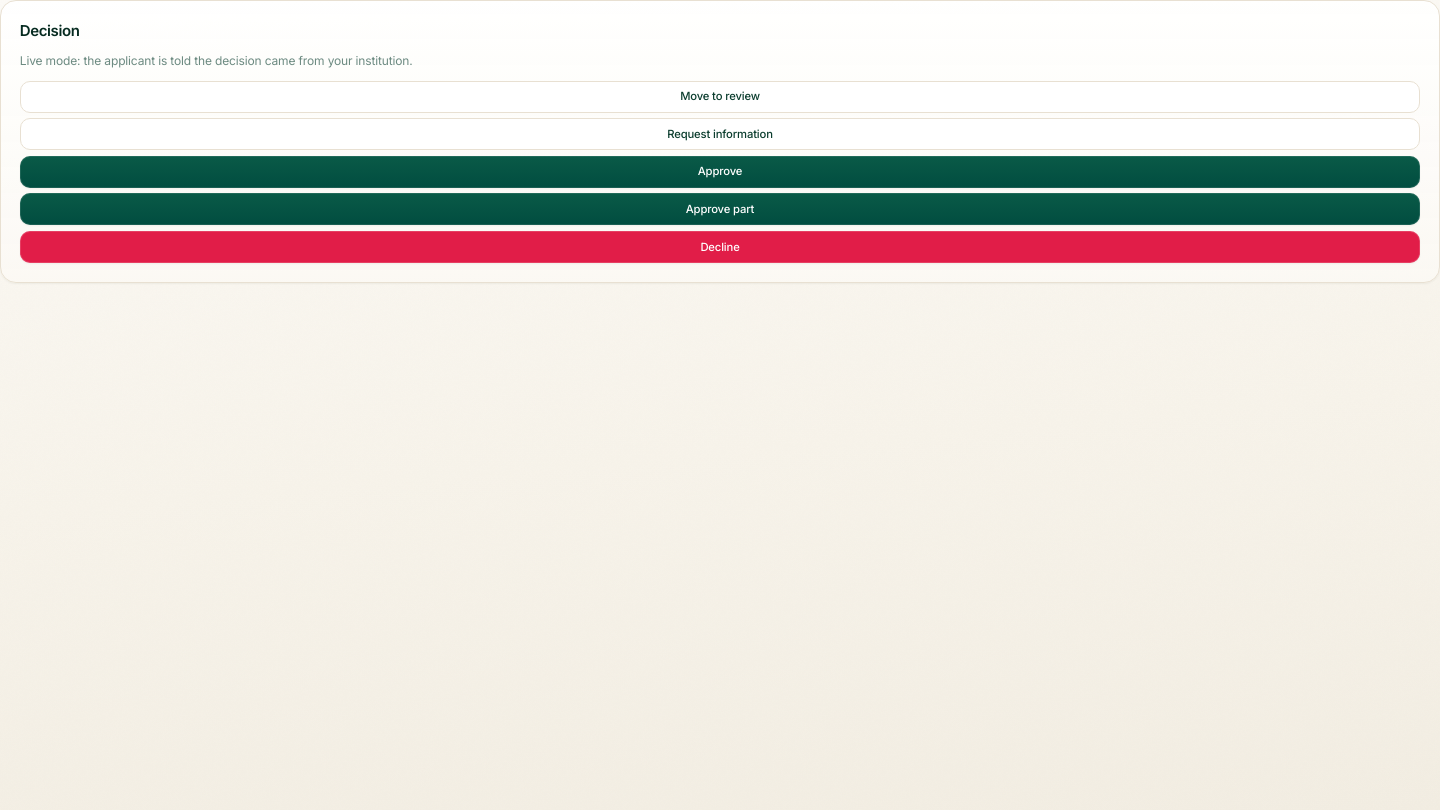
Scenario: a failed decision is visible, and never reported as success › shows the server’s refusal
Click the button "Approve" at (720, 172), box [20,156,1420,188]
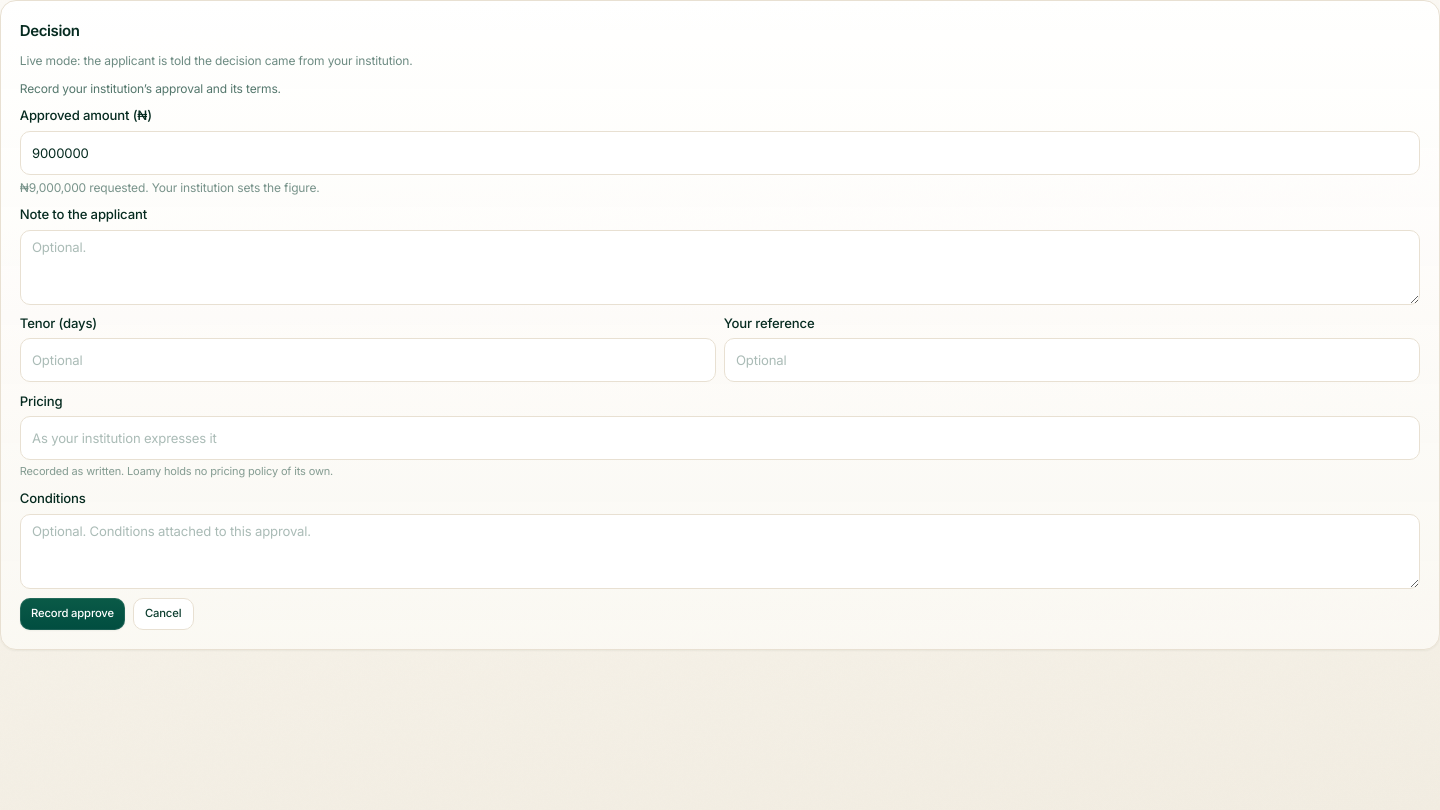
Click the button "Record approve" at (72, 614), box [20,598,125,630]
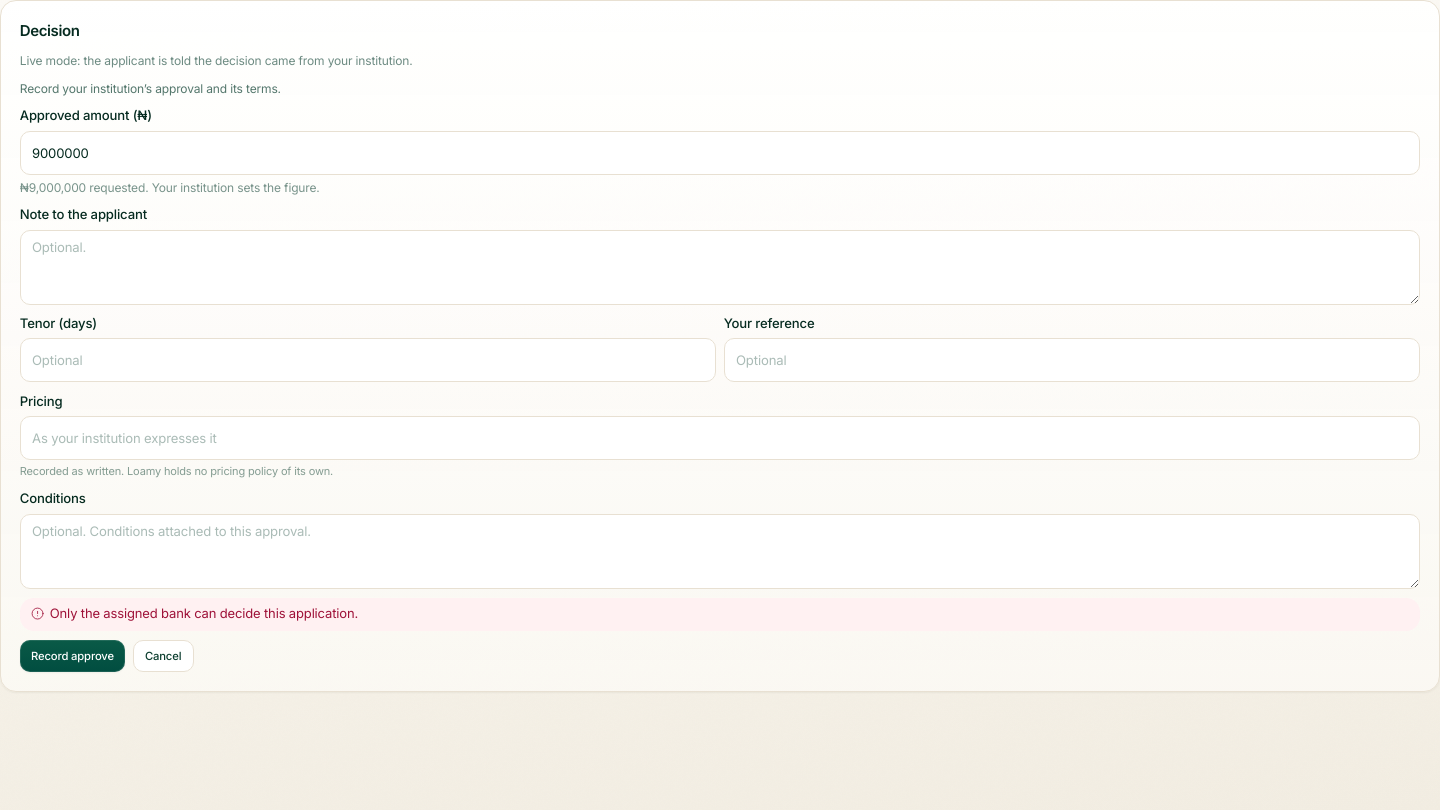
Check: the message shows "Only the assigned bank", box [50,606,358,622]
